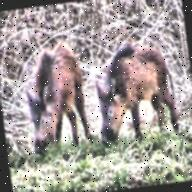boar: (82, 23, 192, 171), (8, 32, 94, 161)
